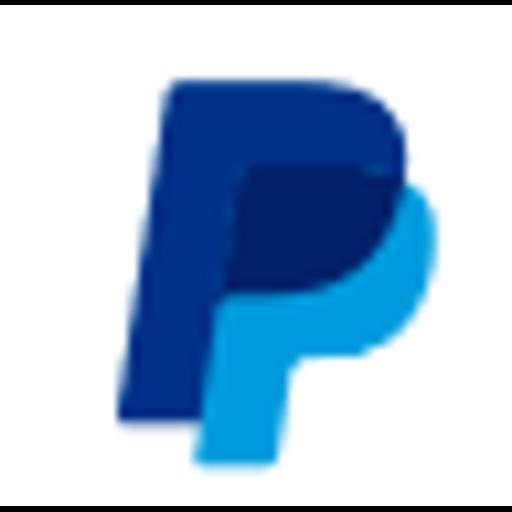PayPal: (0, 5, 512, 506)
